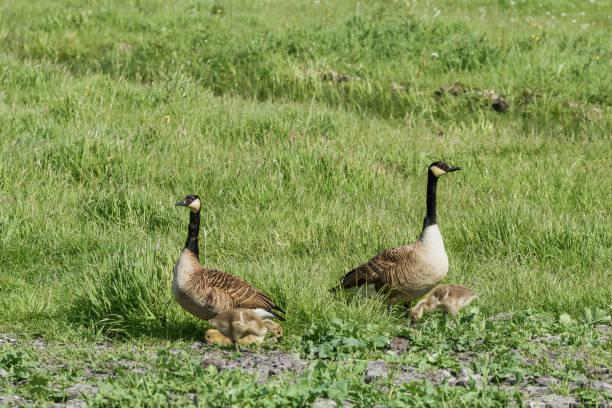Canadian-Goose: (330, 158, 460, 300), (168, 194, 289, 338), (209, 309, 282, 351), (408, 283, 477, 326)
